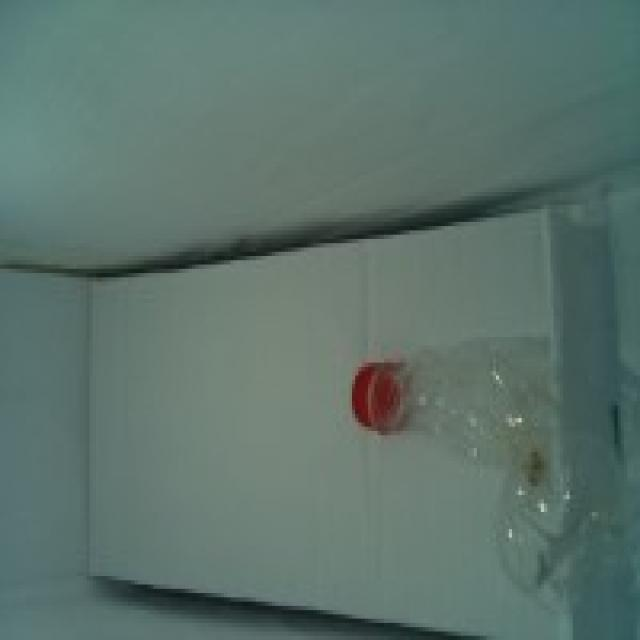plastic_bottle: (350, 337, 640, 614)
